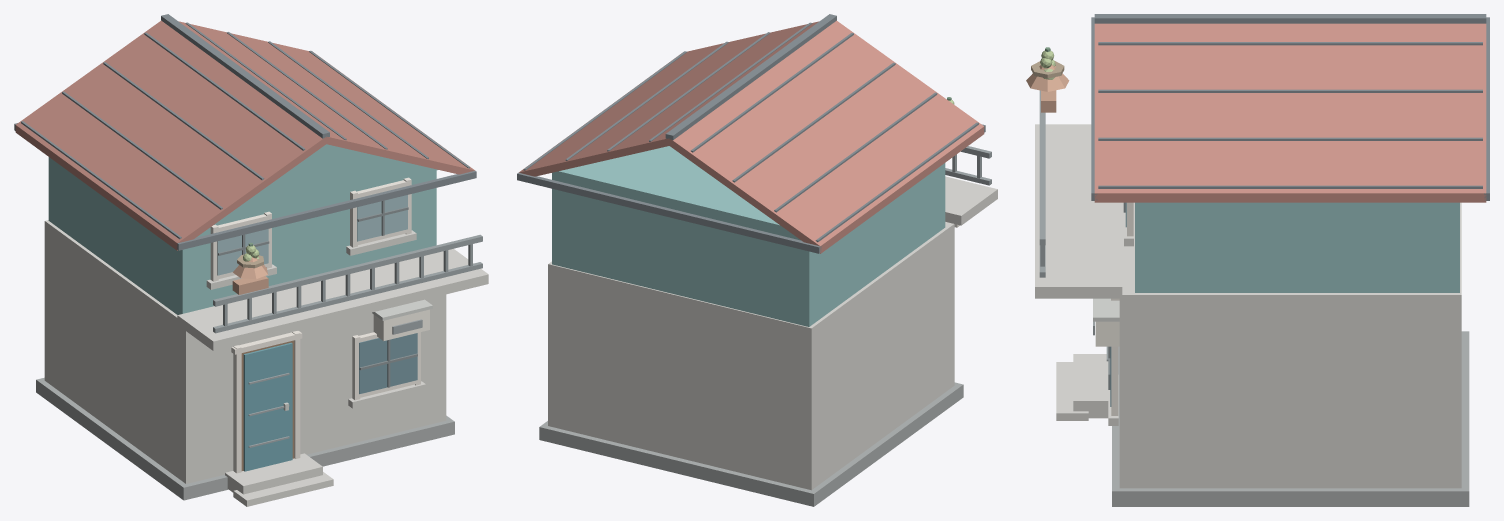
Rendered from 03_Two_Story_Urban_Home.fbx.
3 renders of one model, left to right at view 1: azimuth 30°, elevation 25°; view 2: azimuth 150°, elevation 25°; view 3: azimuth 270°, elevation 25°, orthographic. The views are drawn at different scales.
Visible parts, largest first — view 1: H03_002_LowerConcreteWalls, H03_006_RedGableRoof_LeftSlope, H03_003_UpperPaintedWalls, H03_007_RedGableRoof_RightSlope, H03_039_BalconyFloor, H03_005_UpperGable, H03_001_LowerFoundation, H03_020_GroundDoor_DoorLeaf, H03_008_RedGableRoof_FrontFascia, H03_028_GroundWindow_Pane, H03_040_BalconyRailTop, H03_083_EntryStoop (+21 smaller); view 2: H03_002_LowerConcreteWalls, H03_003_UpperPaintedWalls, H03_006_RedGableRoof_LeftSlope, H03_007_RedGableRoof_RightSlope, H03_001_LowerFoundation, H03_009_RedGableRoof_BackFascia, H03_010_RedGableRoof_RidgeCap, H03_039_BalconyFloor, H03_011_RedGableRoof_Rib01, H03_012_RedGableRoof_Rib02, H03_013_RedGableRoof_Rib03, H03_014_RedGableRoof_Rib04 (+4 smaller); view 3: H03_002_LowerConcreteWalls, H03_007_RedGableRoof_RightSlope, H03_003_UpperPaintedWalls, H03_039_BalconyFloor, H03_001_LowerFoundation, H03_010_RedGableRoof_RidgeCap, H03_083_EntryStoop, H03_015_RedGableRoof_Rib05, H03_016_RedGableRoof_Rib06, H03_017_RedGableRoof_Rib07, H03_018_RedGableRoof_Rib08, H03_084_EntryLowerStep (+7 smaller).
Part boxes in pixels (x1,y1,x2,y2): H03_002_LowerConcreteWalls: [44, 220, 446, 483]; H03_006_RedGableRoof_LeftSlope: [15, 20, 326, 250]; H03_003_UpperPaintedWalls: [48, 157, 436, 314]; H03_007_RedGableRoof_RightSlope: [179, 21, 474, 174]; H03_039_BalconyFloor: [177, 248, 488, 350]; H03_005_UpperGable: [214, 144, 437, 224]; H03_001_LowerFoundation: [36, 377, 454, 500]; H03_020_GroundDoor_DoorLeaf: [243, 342, 292, 471]; H03_008_RedGableRoof_FrontFascia: [176, 170, 476, 250]; H03_028_GroundWindow_Pane: [359, 333, 417, 394]; H03_040_BalconyRailTop: [213, 234, 482, 306]; H03_083_EntryStoop: [225, 453, 322, 494]; H03_002_LowerConcreteWalls: [548, 222, 954, 490]; H03_003_UpperPaintedWalls: [552, 146, 945, 326]; H03_006_RedGableRoof_LeftSlope: [669, 20, 984, 253]; H03_007_RedGableRoof_RightSlope: [519, 21, 818, 176]; H03_001_LowerFoundation: [539, 382, 963, 506]; H03_009_RedGableRoof_BackFascia: [517, 172, 821, 253]; H03_010_RedGableRoof_RidgeCap: [665, 14, 836, 140]; H03_039_BalconyFloor: [945, 176, 997, 225]; H03_011_RedGableRoof_Rib01: [815, 122, 978, 242]; H03_012_RedGableRoof_Rib02: [774, 92, 937, 212]; H03_013_RedGableRoof_Rib03: [732, 62, 895, 182]; H03_014_RedGableRoof_Rib04: [690, 33, 853, 152]; H03_002_LowerConcreteWalls: [1119, 202, 1461, 488]; H03_007_RedGableRoof_RightSlope: [1094, 23, 1486, 202]; H03_003_UpperPaintedWalls: [1135, 202, 1459, 292]; H03_039_BalconyFloor: [1035, 124, 1122, 298]; H03_001_LowerFoundation: [1112, 331, 1469, 506]; H03_010_RedGableRoof_RidgeCap: [1094, 14, 1486, 23]; H03_083_EntryStoop: [1073, 354, 1108, 418]; H03_015_RedGableRoof_Rib05: [1098, 42, 1482, 45]; H03_016_RedGableRoof_Rib06: [1098, 89, 1482, 92]; H03_017_RedGableRoof_Rib07: [1098, 137, 1482, 140]; H03_018_RedGableRoof_Rib08: [1098, 185, 1482, 188]; H03_084_EntryLowerStep: [1056, 362, 1088, 420].
Size of the model in its own units: 487 by 530 by 542.
